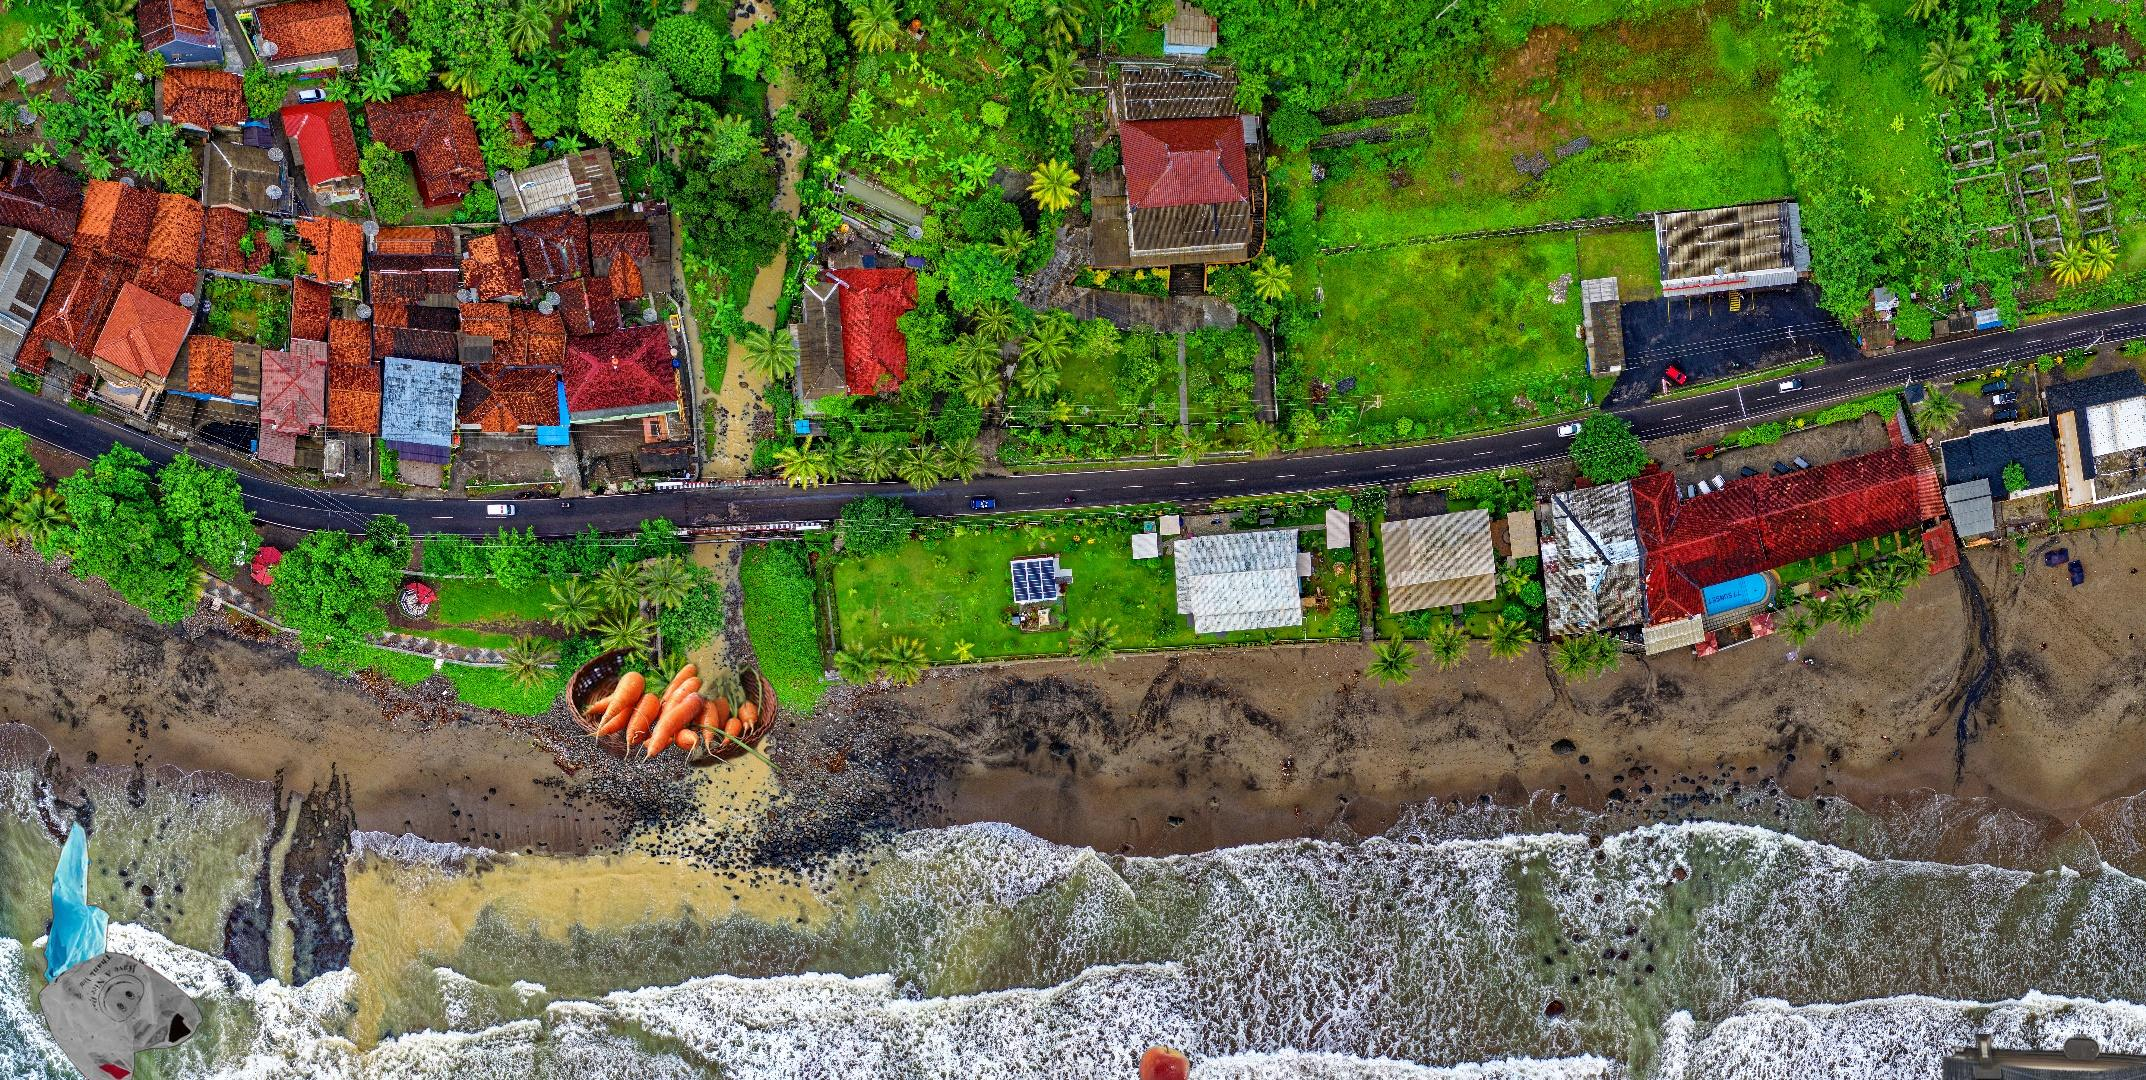biological: (566, 555, 781, 786), (1071, 1038, 1273, 1080)
clothes: (1939, 1034, 2146, 1080)
plastic-bag: (36, 817, 206, 1080)
trash: (2121, 1071, 2146, 1080)
